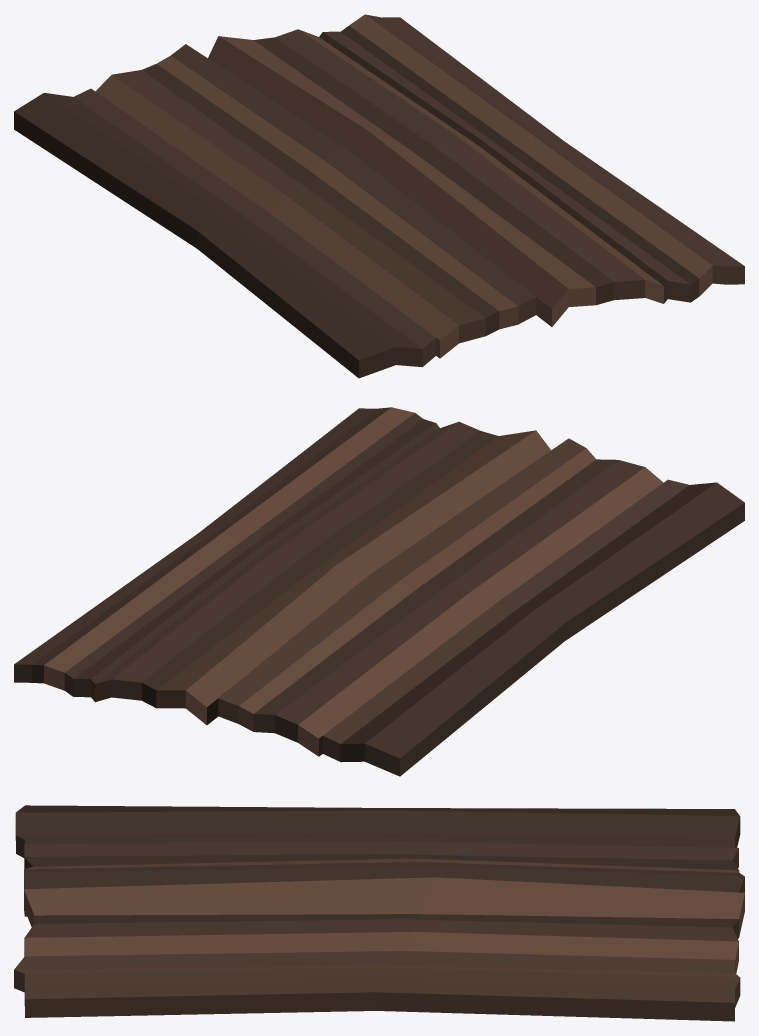
File: SM_Bld_Roof_Patch_01.fbx
3 views of the same model, one above another, from view 1: azimuth 30°, elevation 25°; view 2: azimuth 150°, elevation 25°; view 3: azimuth 270°, elevation 25° (orthographic). The views are drawn at different scales.
Visible parts, largest first — view 1: SM_Bld_Roof_Patch_01; view 2: SM_Bld_Roof_Patch_01; view 3: SM_Bld_Roof_Patch_01.
Part boxes in pixels (box(x1,y1,x2,y2)): SM_Bld_Roof_Patch_01: box(14, 14, 744, 378); SM_Bld_Roof_Patch_01: box(14, 407, 744, 776); SM_Bld_Roof_Patch_01: box(14, 805, 744, 1021).
Bounding box in the file's own units: 241 × 32.13 × 384.
Materials: 1 (1 with a texture image).
